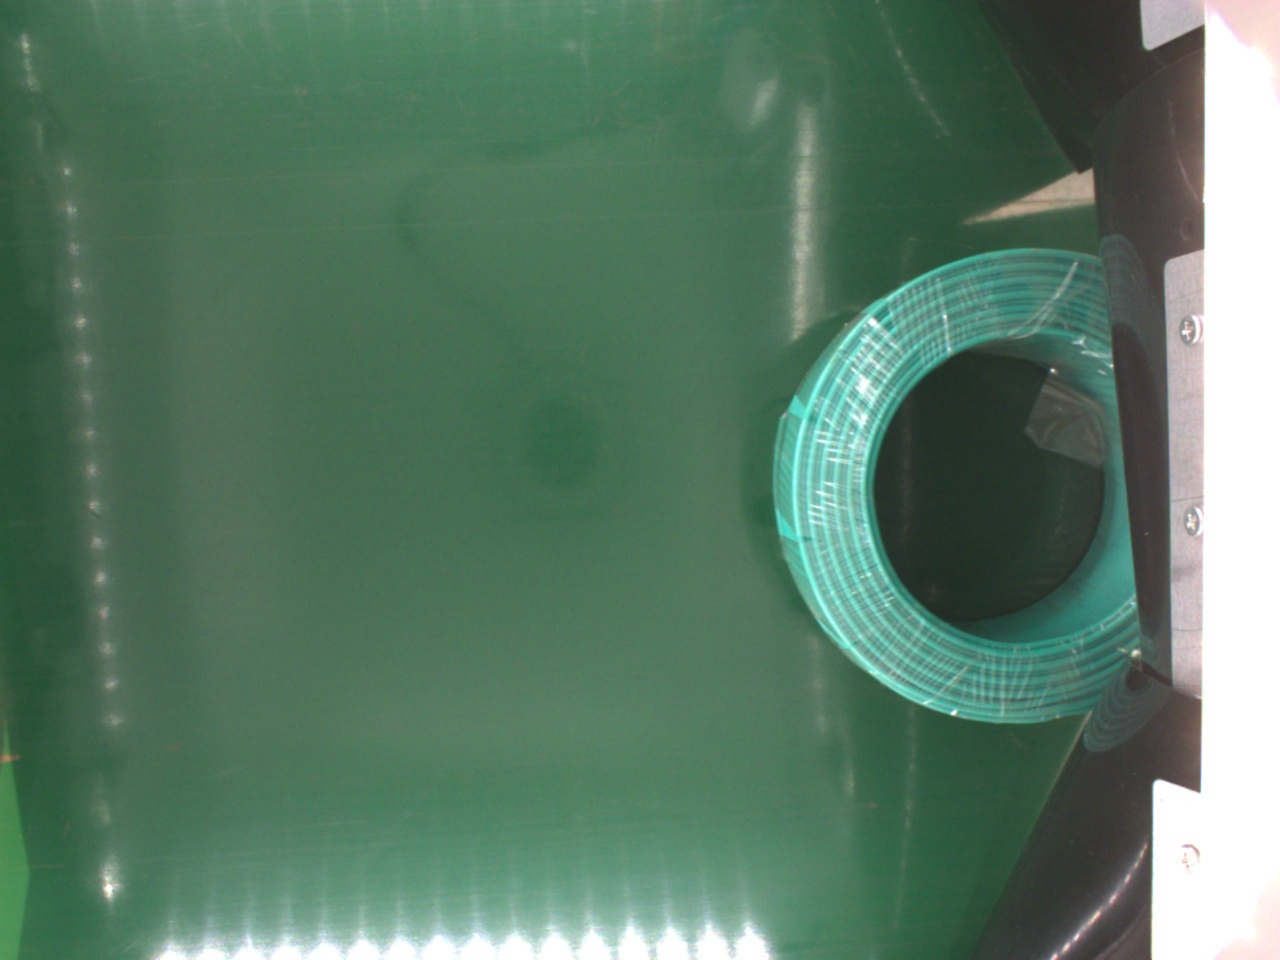green: (769, 250, 1130, 726)
